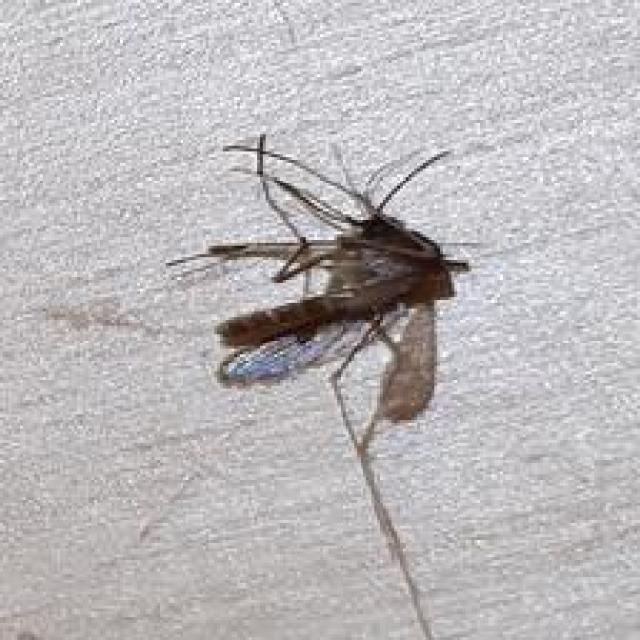Culex: (161, 128, 495, 640)
